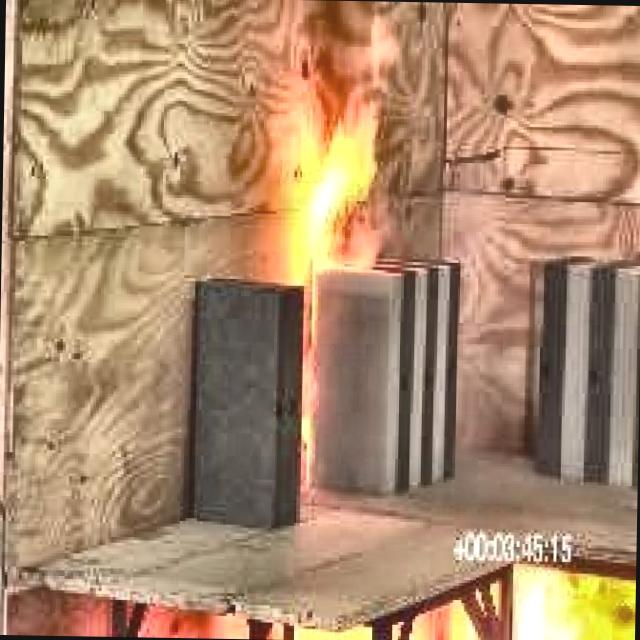fire: (262, 62, 388, 332)
